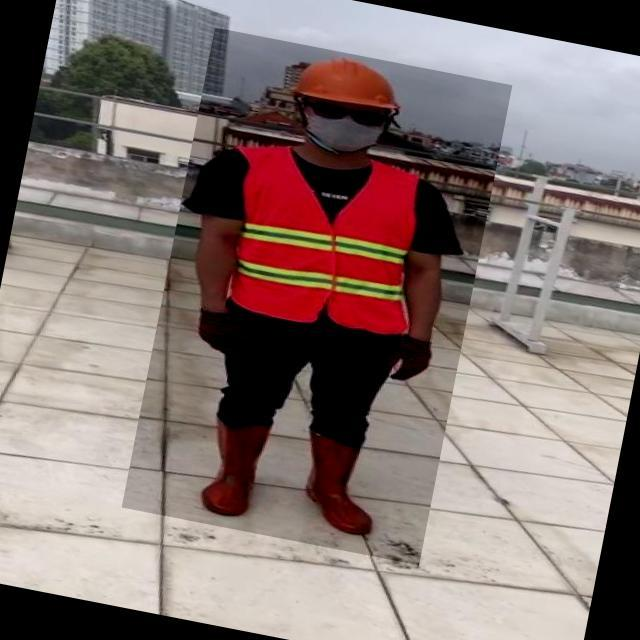Gloves: (191, 312, 259, 363), (374, 334, 435, 390)
Helmet: (121, 28, 512, 567), (284, 52, 410, 120)
Safety Boot: (293, 431, 388, 541), (191, 413, 273, 525)
Safety Vest: (211, 143, 433, 342)
